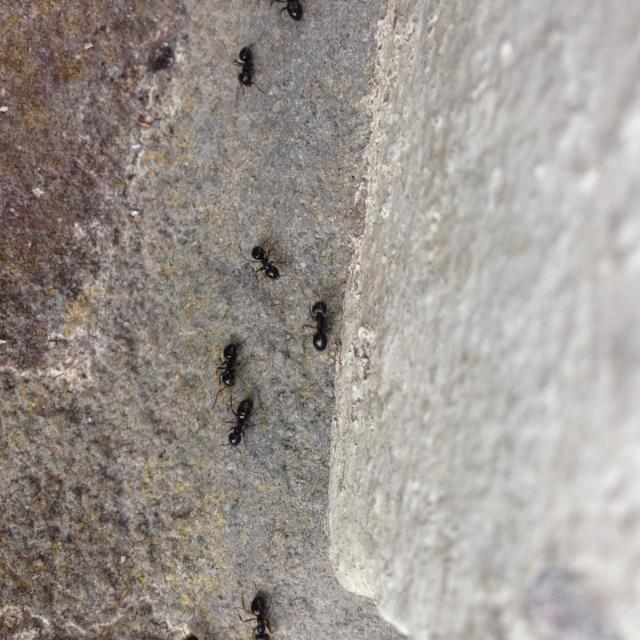Lasius: (291, 291, 345, 363), (211, 318, 253, 404), (220, 380, 264, 462), (244, 235, 280, 289), (236, 596, 272, 640), (232, 29, 262, 79), (282, 0, 308, 18)
